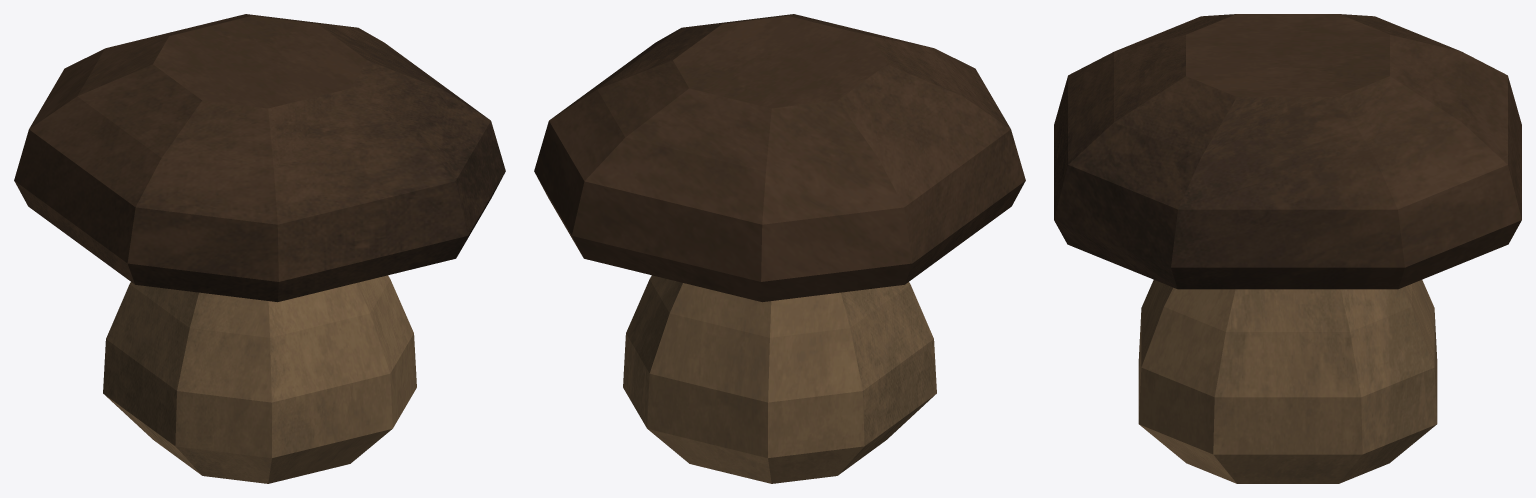
Rendered from Mushroom.fbx.
3 renders of one model, left to right at view 1: azimuth 30°, elevation 25°; view 2: azimuth 150°, elevation 25°; view 3: azimuth 270°, elevation 25°, orthographic. The views are drawn at different scales.
Visible parts, largest first — view 1: Bolet, Bolet1; view 2: Bolet, Bolet1; view 3: Bolet, Bolet1.
Boxes of the visible parts, x1,y1,x2,y2 form: Bolet: [14, 14, 505, 302]; Bolet1: [103, 275, 416, 483]; Bolet: [534, 14, 1025, 302]; Bolet1: [623, 275, 936, 483]; Bolet: [1054, 14, 1521, 289]; Bolet1: [1138, 280, 1437, 483].
Size of the model in its own units: 94.62 by 89.76 by 98.33.
2 materials, 2 textured.
